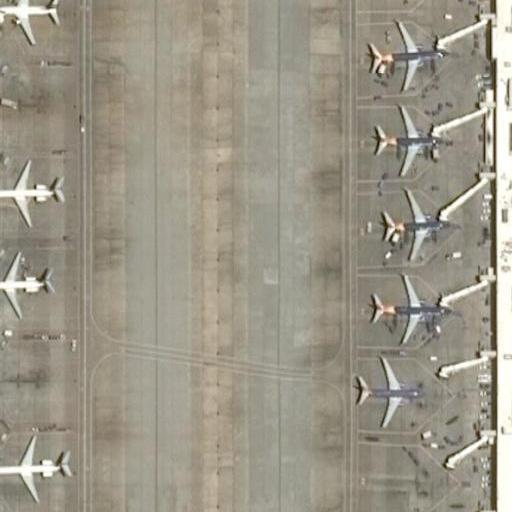Aircraft: (356, 20, 457, 95), (364, 270, 465, 344), (367, 100, 460, 179), (344, 355, 439, 432), (367, 191, 461, 265), (0, 428, 72, 502), (0, 159, 72, 230), (0, 250, 61, 322), (0, 0, 71, 44)
